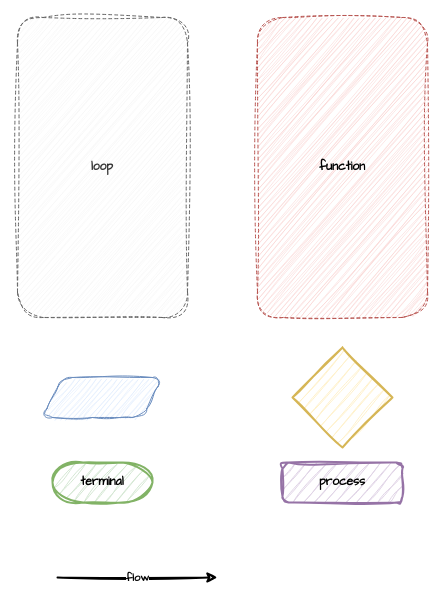
The diagram is 445 pixels wide and 604 high, and some of its shapes have lost their labels. The shapes that lost their labels are listed below. From the top down, each one's centre as x and y in pixels, then its label:
At pixel 102 397: "input / output".
At pixel 342 397: "decision".
